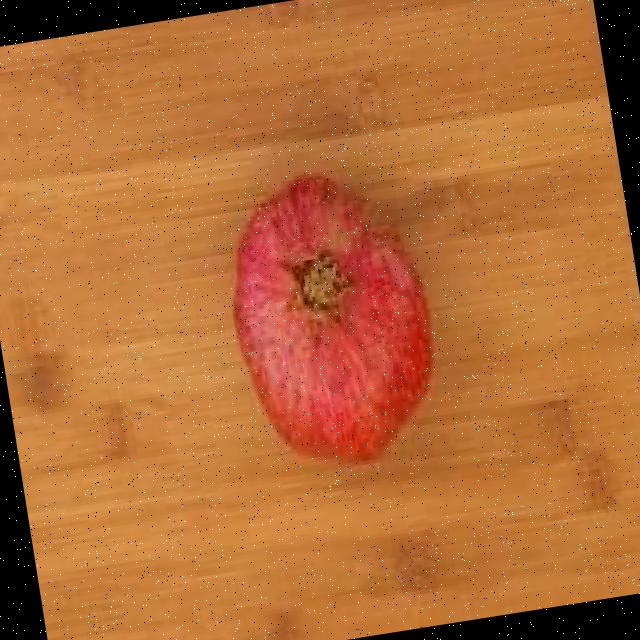Pomegranate: (208, 155, 452, 482)
